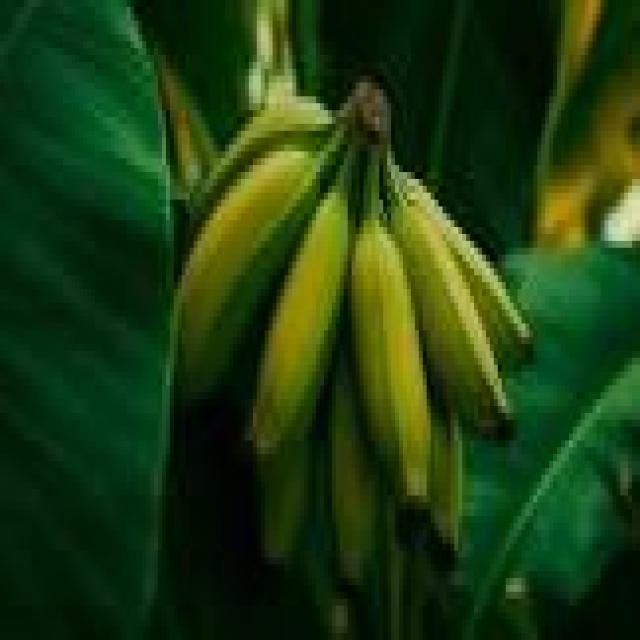banana: (178, 145, 319, 399), (249, 152, 351, 454), (392, 186, 513, 433), (352, 186, 430, 509), (403, 173, 533, 364), (194, 97, 335, 227), (328, 345, 379, 584), (159, 56, 217, 199), (257, 441, 312, 564), (431, 407, 462, 550)
